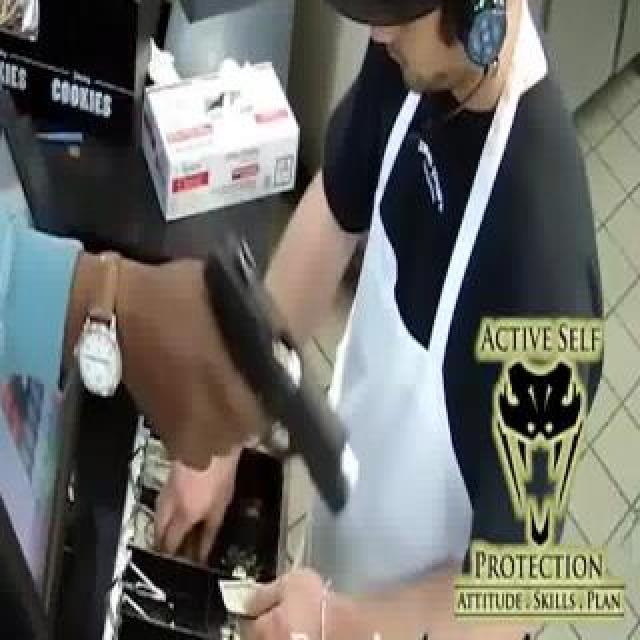Guns: (162, 221, 380, 536)
